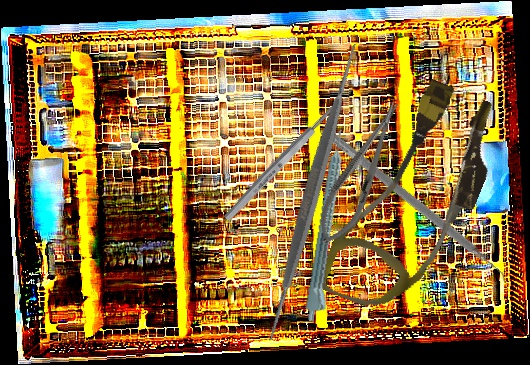Cannula: (315, 67, 513, 331)
Handpiece: (303, 128, 356, 324)
Needle Holder: (307, 94, 414, 253)
Spatula Surgical: (159, 37, 467, 347), (314, 126, 514, 288)
Surgical Spoon: (222, 89, 352, 223)
